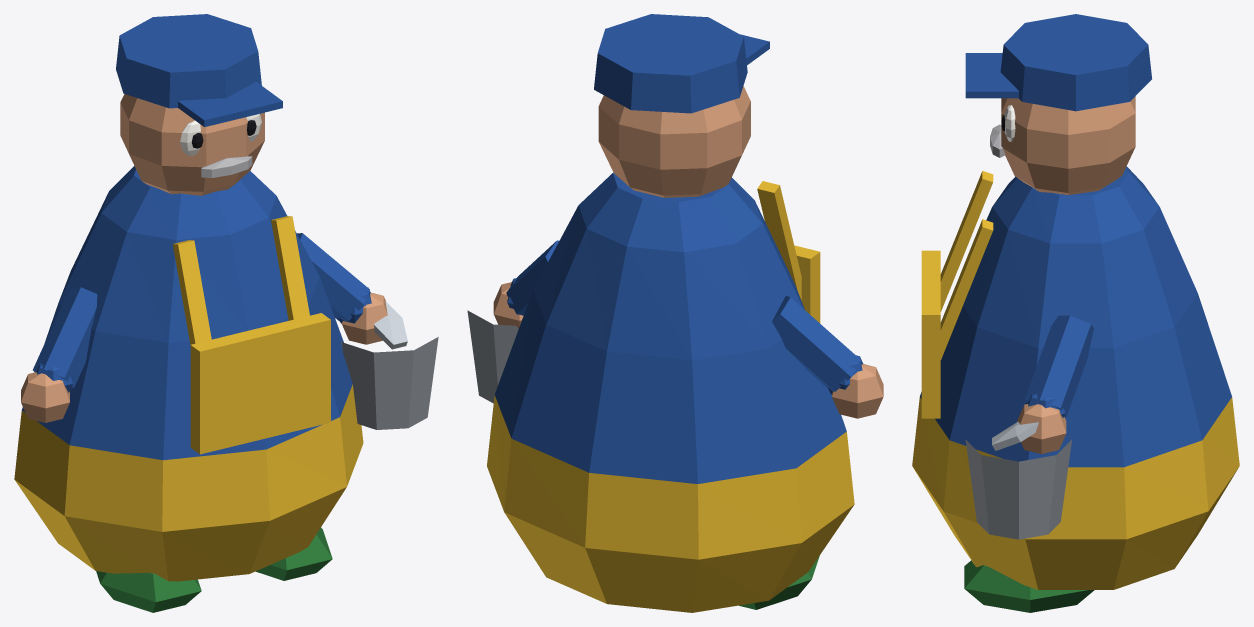
File: npc_anzuelo.glb
3 views of the same model, side by side, from view 1: azimuth 30°, elevation 25°; view 2: azimuth 150°, elevation 25°; view 3: azimuth 270°, elevation 25° (orthographic). The views are drawn at different scales.
Parts seen in each view (by area): view 1: body_anzuelo_overalls, body_anzuelo_shirt, head_anzuelo_cap (×2), head_skin_morena, arms_anzuelo_shirt, props_bucket_metal, legs_anzuelo_boots, arms_skin_morena, props_fish_silver, face_hair_grey, face_white; view 2: body_anzuelo_shirt, body_anzuelo_overalls, head_anzuelo_cap, head_skin_morena, arms_anzuelo_shirt, arms_skin_morena, props_bucket_metal, legs_anzuelo_boots; view 3: body_anzuelo_shirt, body_anzuelo_overalls, head_anzuelo_cap (×2), head_skin_morena, props_bucket_metal, arms_anzuelo_shirt, legs_anzuelo_boots, arms_skin_morena, props_fish_silver.
Boxes of the visible parts, box(x1,y1,x2,y2) form: body_anzuelo_overalls: box(14, 216, 363, 581); body_anzuelo_shirt: box(22, 166, 352, 460); head_anzuelo_cap (×2): box(116, 14, 282, 127); head_skin_morena: box(120, 94, 264, 195); arms_anzuelo_shirt: box(33, 233, 371, 392); props_bucket_metal: box(340, 337, 438, 429); legs_anzuelo_boots: box(96, 527, 332, 612); arms_skin_morena: box(21, 292, 387, 422); props_fish_silver: box(374, 301, 407, 349); face_hair_grey: box(201, 156, 252, 177); face_white: box(180, 114, 261, 155); body_anzuelo_shirt: box(494, 172, 846, 483); body_anzuelo_overalls: box(487, 181, 854, 612); head_anzuelo_cap: box(594, 14, 747, 113); head_skin_morena: box(598, 86, 750, 197); arms_anzuelo_shirt: box(506, 240, 863, 394); arms_skin_morena: box(493, 282, 883, 418); props_bucket_metal: box(467, 310, 518, 403); legs_anzuelo_boots: box(739, 555, 819, 609); body_anzuelo_shirt: box(920, 166, 1231, 467); body_anzuelo_overalls: box(912, 171, 1239, 589); head_anzuelo_cap (×2): box(965, 14, 1151, 111); head_skin_morena: box(1001, 96, 1135, 194); props_bucket_metal: box(965, 439, 1071, 539); arms_anzuelo_shirt: box(1024, 315, 1093, 417); legs_anzuelo_boots: box(964, 560, 1094, 612); arms_skin_morena: box(1017, 404, 1066, 454); props_fish_silver: box(992, 421, 1038, 450).
Bounding box in the file's own units: 1.23 × 1.53 × 0.86.
